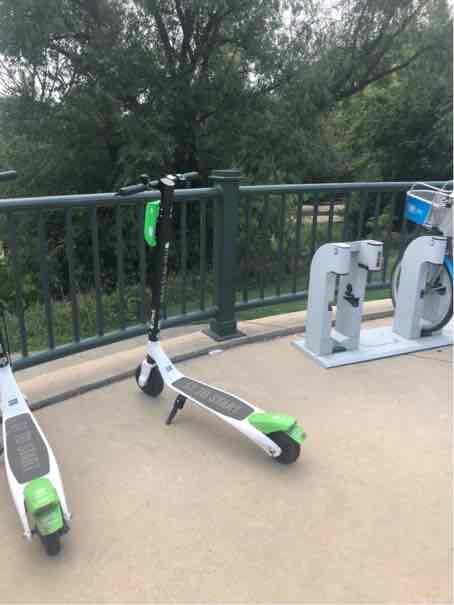scooter: (100, 157, 313, 470)
